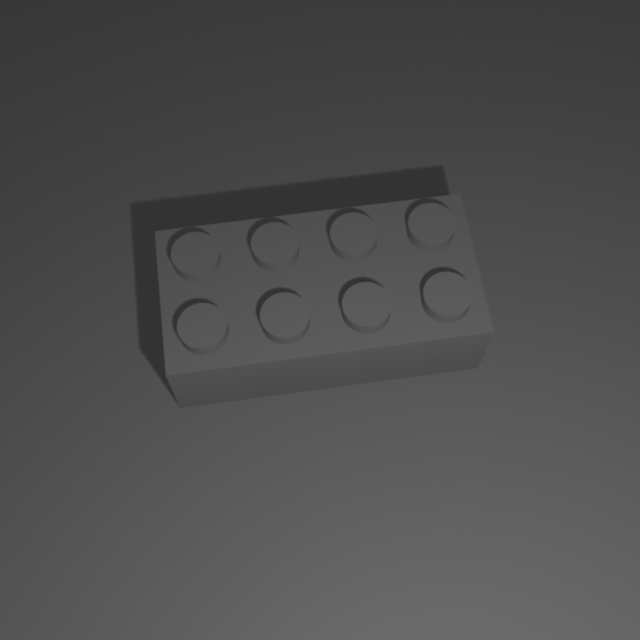lego_2x4: (152, 185, 497, 408)
